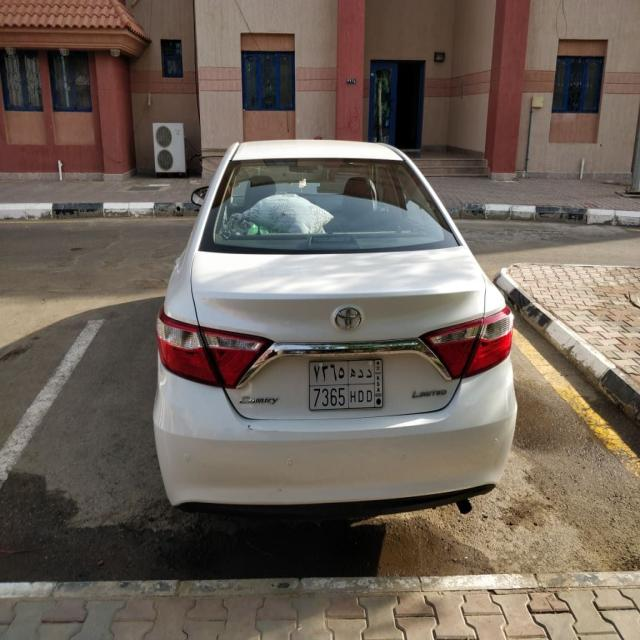license_plate: (306, 353, 386, 415)
